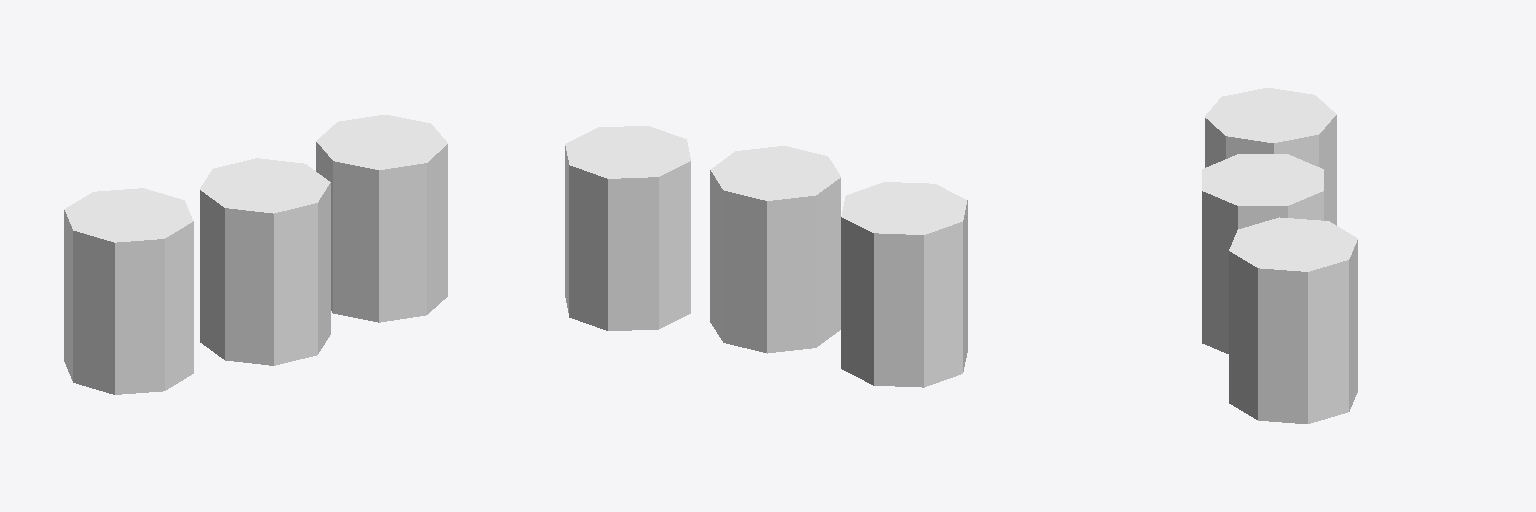
The model's file is assorted_metal_cans_3.obj.
3 views of the same model, side by side, from view 1: azimuth 30°, elevation 25°; view 2: azimuth 150°, elevation 25°; view 3: azimuth 270°, elevation 25° (orthographic).
Parts seen in each view (by area): view 1: can_3, can_1, can_2; view 2: can_3, can_1, can_2; view 3: can_2, can_3, can_1.
Part boxes in pixels (x1,y1,x2,y2): can_3: (200,158,330,365); can_1: (64,188,193,394); can_2: (316,115,447,322); can_3: (710,146,840,353); can_1: (841,182,967,387); can_2: (565,126,690,330); can_2: (1229,217,1357,423); can_3: (1202,154,1323,353); can_1: (1205,88,1336,225).
Bounding box in the file's own units: 0.8923 × 0.3438 × 0.3196.